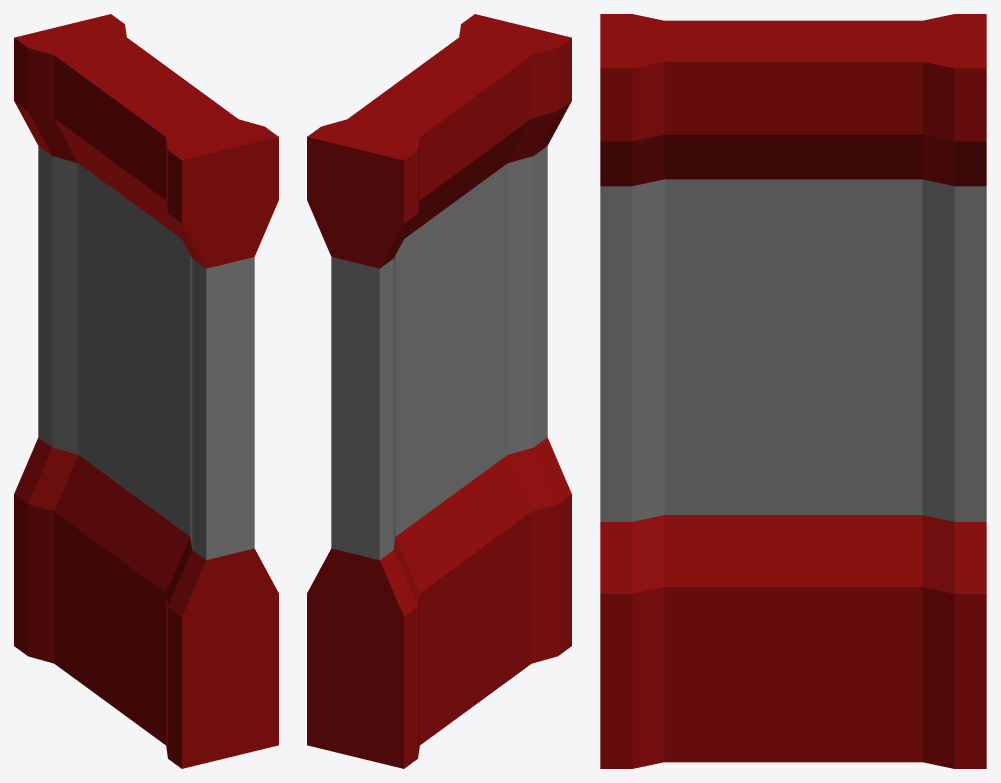
File: wallPre.obj
3 renders of one model, left to right at view 1: azimuth 30°, elevation 25°; view 2: azimuth 150°, elevation 25°; view 3: azimuth 270°, elevation 25°, orthographic. The views are drawn at different scales.
Parts seen in each view (by area): view 1: Hale_Wall_02_snaps002_1, Hale_Wall_02_snaps002_0; view 2: Hale_Wall_02_snaps002_1, Hale_Wall_02_snaps002_0; view 3: Hale_Wall_02_snaps002_1, Hale_Wall_02_snaps002_0.
Boxes of the visible parts, box(x1,y1,x2,y2) form: Hale_Wall_02_snaps002_1: box(14, 14, 278, 768); Hale_Wall_02_snaps002_0: box(38, 146, 254, 560); Hale_Wall_02_snaps002_1: box(307, 14, 571, 768); Hale_Wall_02_snaps002_0: box(331, 146, 547, 560); Hale_Wall_02_snaps002_1: box(600, 14, 986, 768); Hale_Wall_02_snaps002_0: box(600, 179, 986, 521).
Size of the model in its own units: 1 by 6 by 3.
